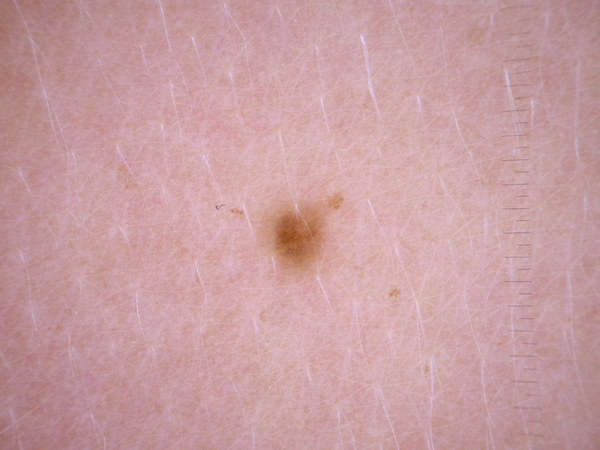Detected Lesion: (260, 191, 347, 280)
